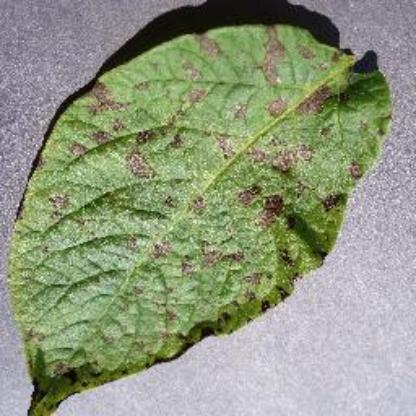Early-Blight: (10, 12, 400, 414)
